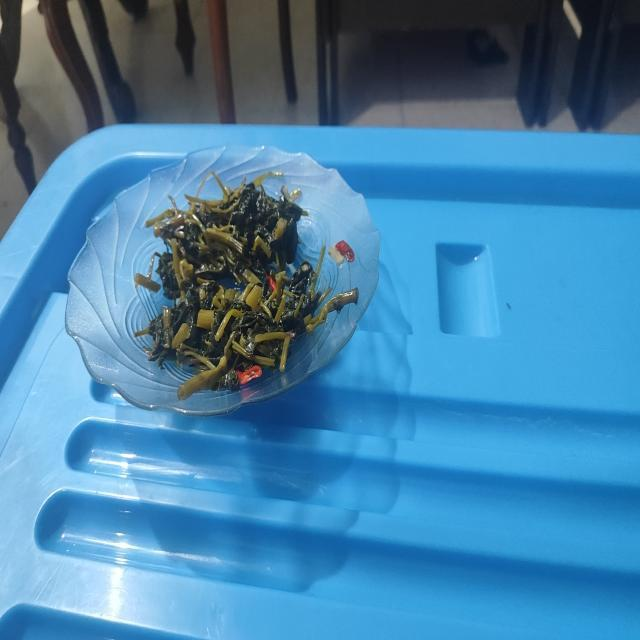tumis_kangkung: (134, 171, 332, 399)
